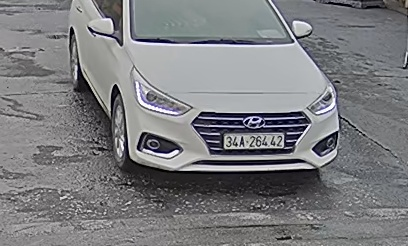vehicle plate: (222, 132, 287, 150)
